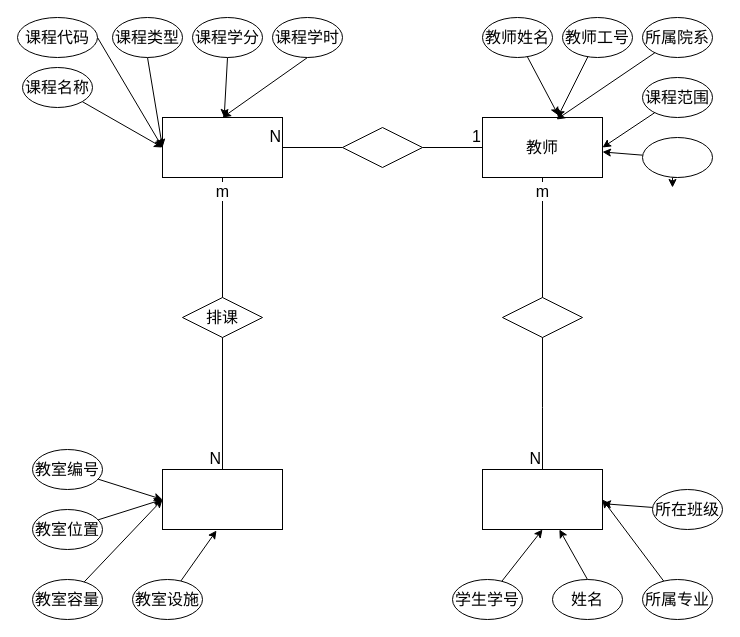
Image size: 740x637. Some labels were removed from this diagram. Each missing label, with the centre of its shape:
"学生" goes at (x=542, y=499).
"工作量限制" goes at (x=677, y=157).
"教室" goes at (x=222, y=499).
"教授" goes at (x=382, y=147).
"课程" goes at (x=222, y=147).
"选课" goes at (x=542, y=317).
